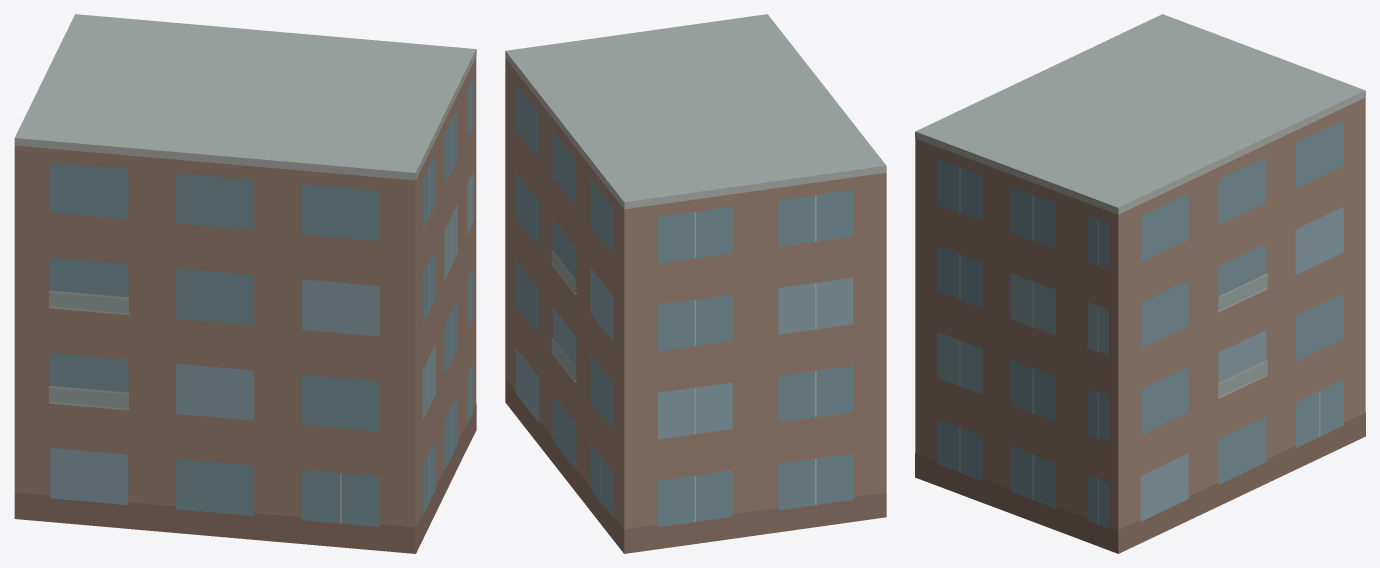
Rendered from residential-432964c8-3edc-4f93-b6bf-366558aeef9e.glb.
3 renders of one model, left to right at view 1: azimuth 30°, elevation 25°; view 2: azimuth 150°, elevation 25°; view 3: azimuth 270°, elevation 25°, orthographic. The views are drawn at different scales.
Parts seen in each view (by area): view 1: residential-432964c8-3edc-4f93-b6bf-366558aeef9e.tmp; view 2: residential-432964c8-3edc-4f93-b6bf-366558aeef9e.tmp; view 3: residential-432964c8-3edc-4f93-b6bf-366558aeef9e.tmp.
Boxes of the visible parts, bbox=[...] form: residential-432964c8-3edc-4f93-b6bf-366558aeef9e.tmp: bbox=[14, 14, 476, 553]; residential-432964c8-3edc-4f93-b6bf-366558aeef9e.tmp: bbox=[505, 14, 886, 553]; residential-432964c8-3edc-4f93-b6bf-366558aeef9e.tmp: bbox=[915, 14, 1365, 553].
Bounding box in the file's own units: 14.67 × 12.2 × 14.4.
